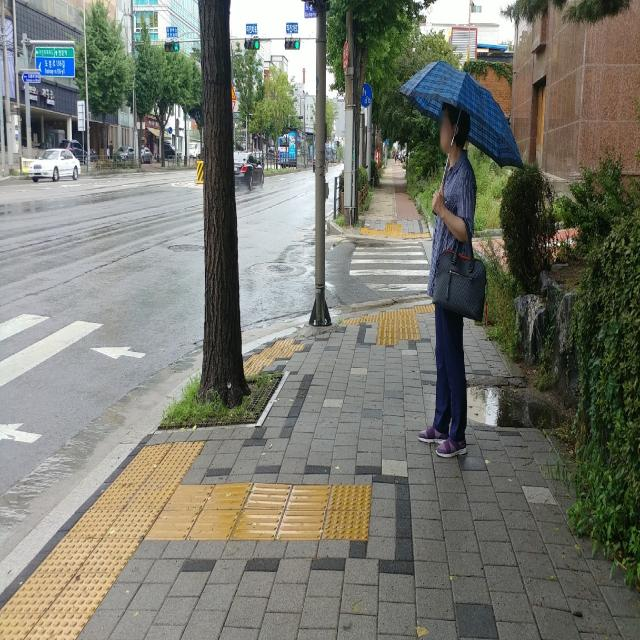횡단보도: (0, 308, 143, 449), (348, 241, 431, 293)
